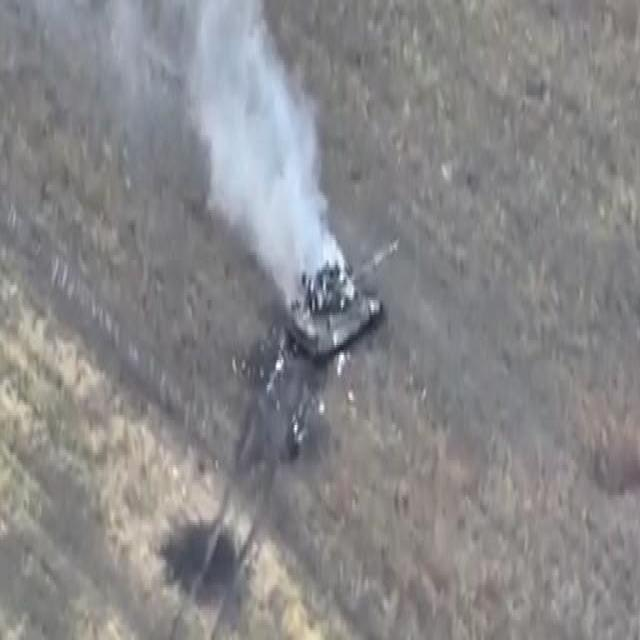destroyed: (286, 266, 384, 366)
